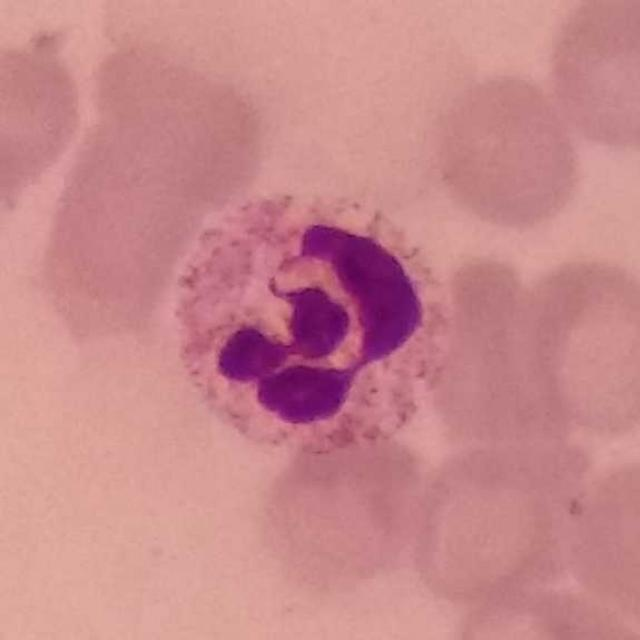Neutrophil: (159, 180, 453, 458)
RBC: (401, 436, 591, 610), (83, 37, 275, 209), (250, 420, 443, 591), (31, 154, 192, 342), (424, 69, 587, 233), (416, 280, 573, 448), (510, 249, 640, 441), (555, 447, 640, 636), (541, 0, 640, 154), (0, 35, 89, 202), (439, 567, 640, 640)
